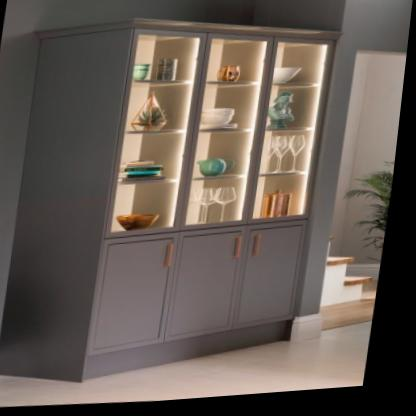Cupboard: (2, 21, 343, 386)
